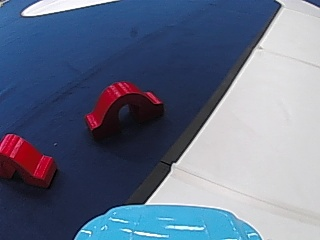bridge: (80, 77, 166, 138), (1, 131, 59, 187)
